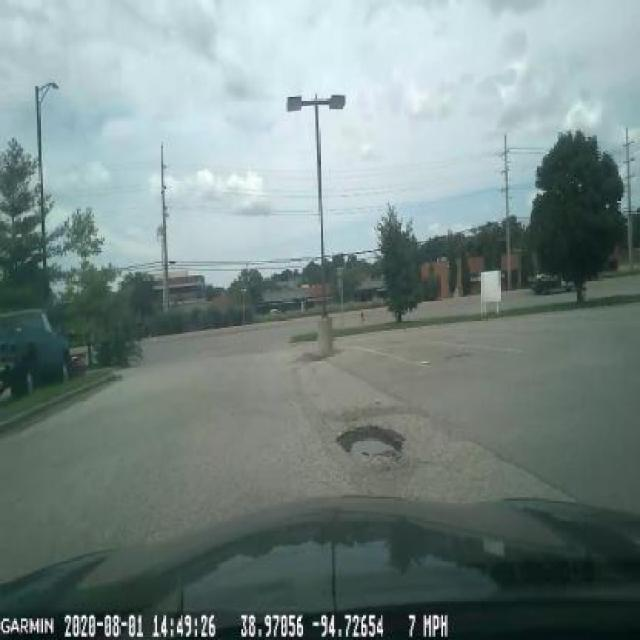Pothole: (333, 412, 409, 480)
